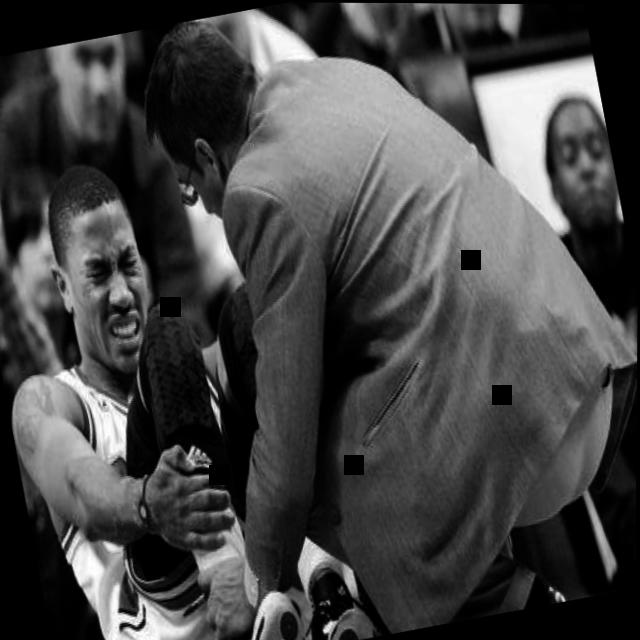Fall-Detected: (0, 135, 350, 640)
